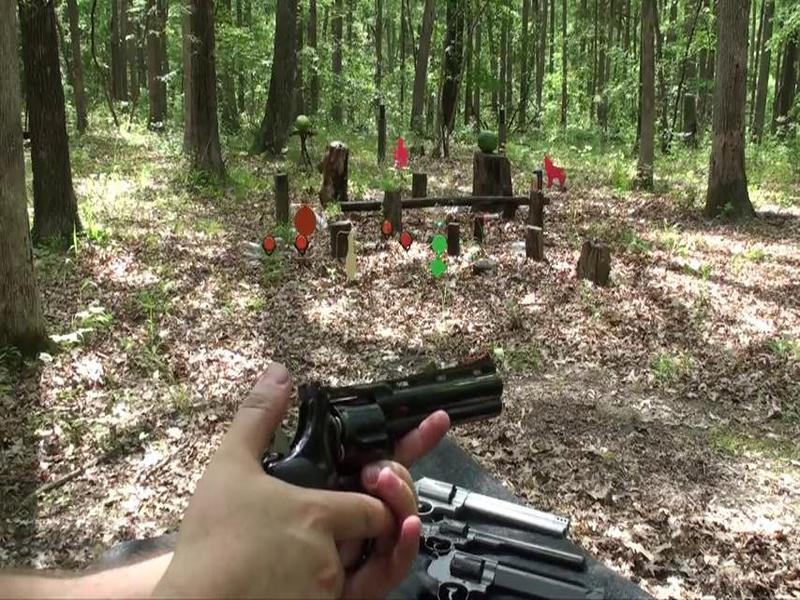Revolver: (229, 343, 534, 541)
